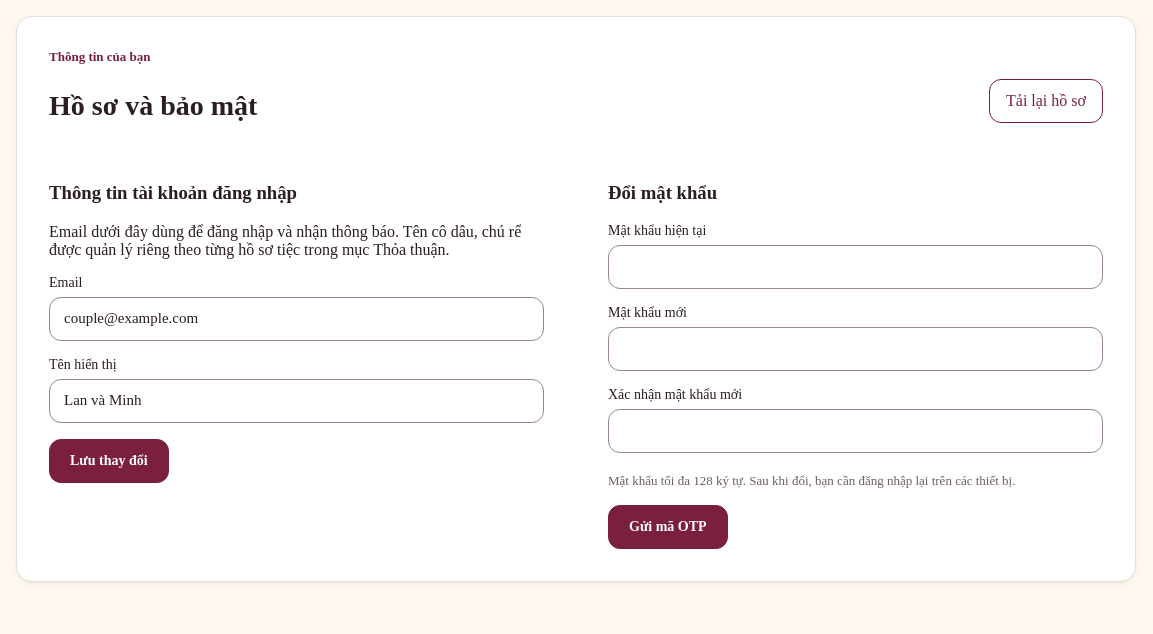
Scenario: account password OTP errors › reports EMAIL_NOT_CONFIGURED as an email service failure without pretending a code was sent
Type "Initial-password-123" into the password field labelled "Mật khẩu hiện tại" at (856, 267), box [608,245,1103,289]
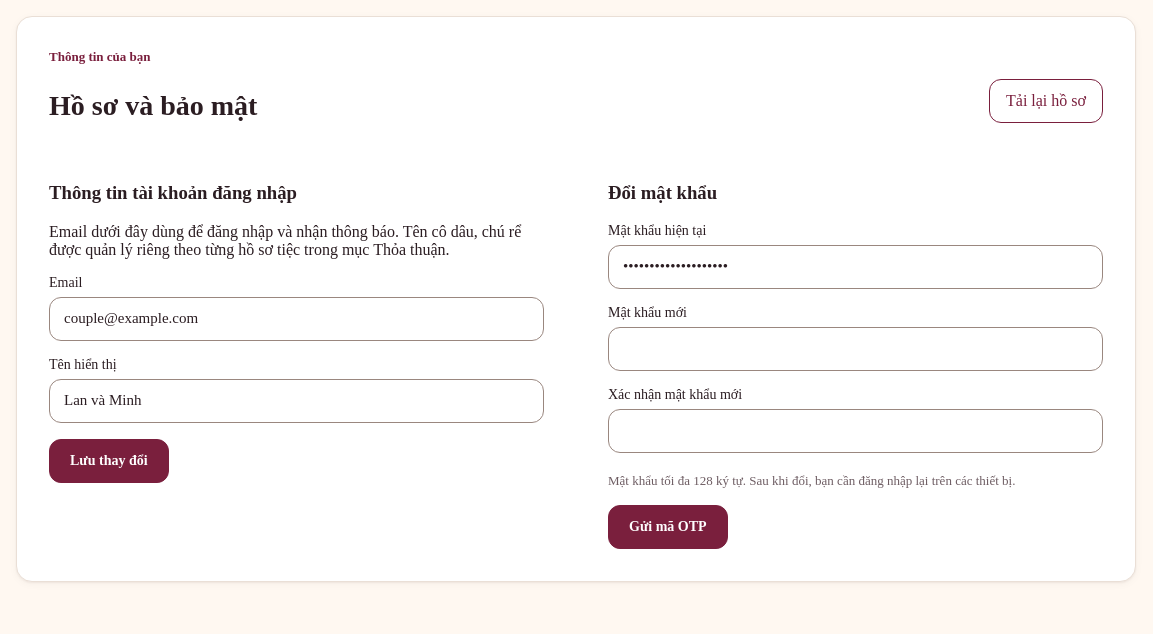
Type "Replacement-password-123" into the password field labelled "Mật khẩu mới" at (856, 349), box [608,327,1103,371]
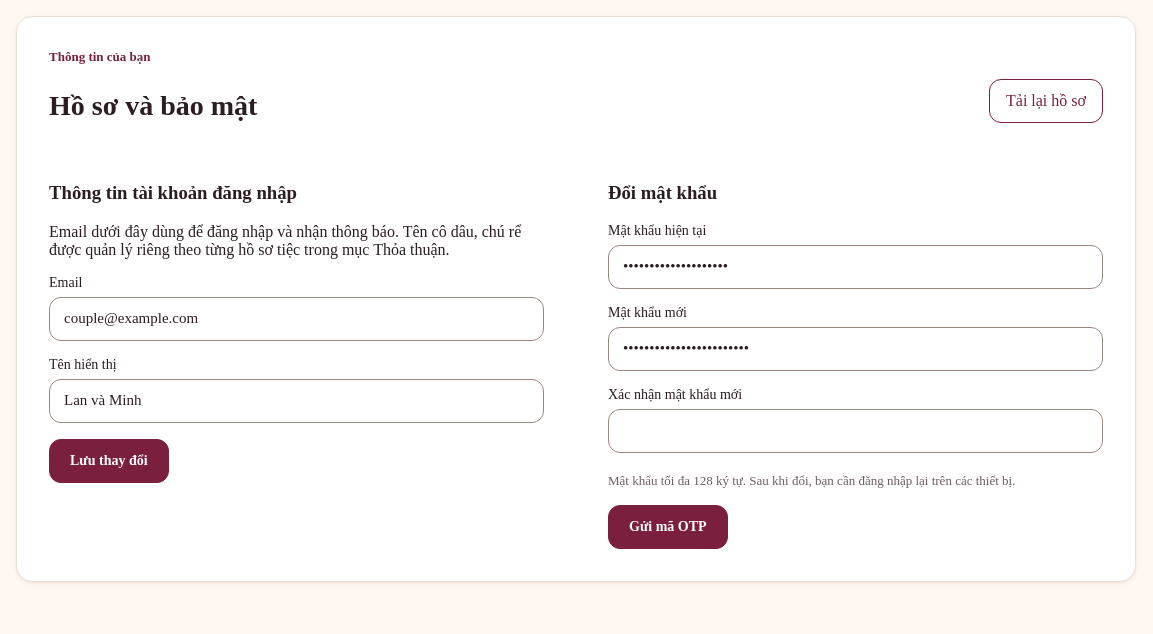
Type "Replacement-password-123" into the password field labelled "Xác nhận mật khẩu mới" at (856, 431), box [608,409,1103,453]
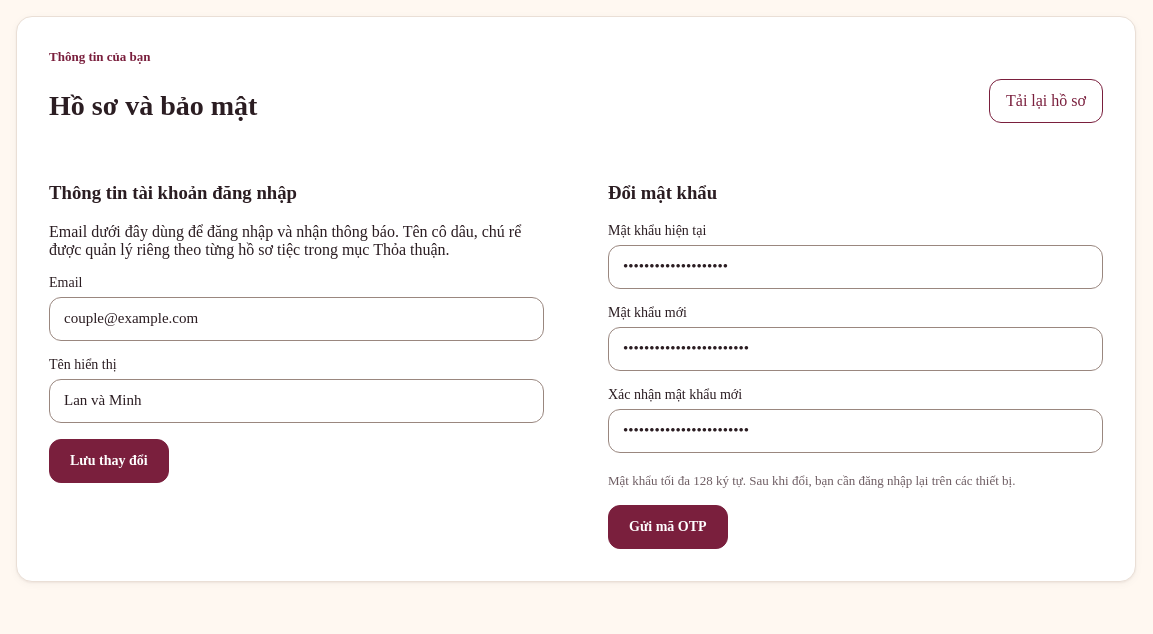
Click the button "Gửi mã OTP" at (668, 527), box [608,505,728,549]
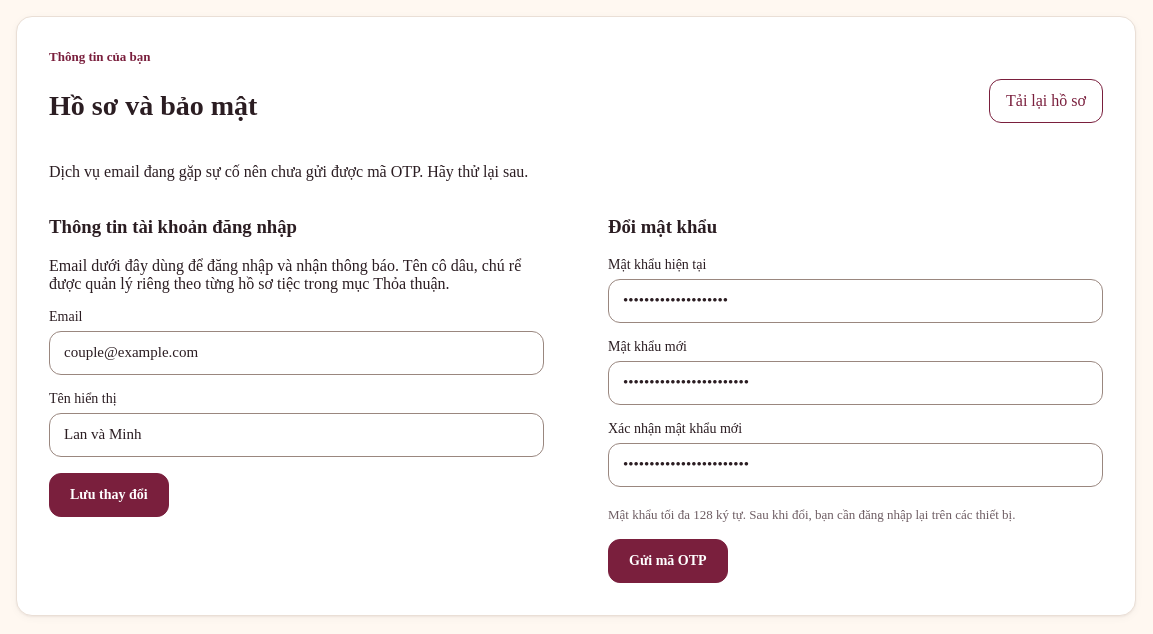
Result: the message shows "Dịch vụ email" at [49,163,528,180]
